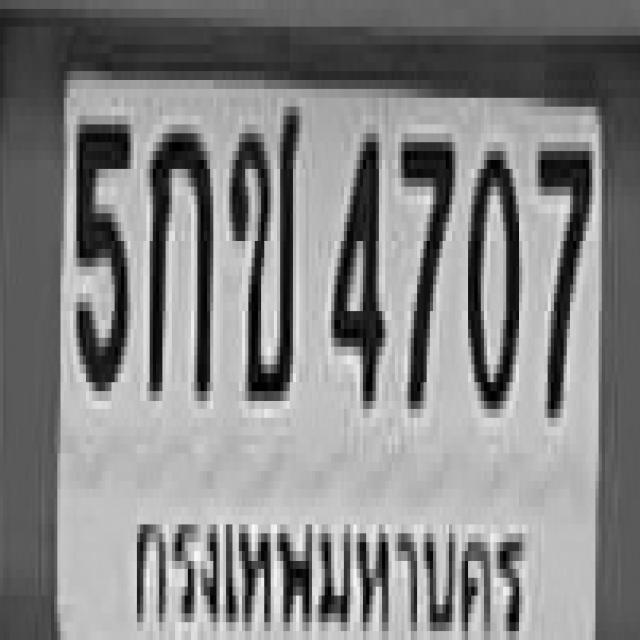0: (465, 142, 516, 400)
10GorGai: (147, 116, 210, 391)
19ChorChang: (226, 98, 296, 391)
4: (328, 124, 382, 400)
5: (74, 116, 128, 382)
7: (398, 133, 452, 400), (535, 142, 589, 409)
Bangkok: (126, 503, 534, 640)
